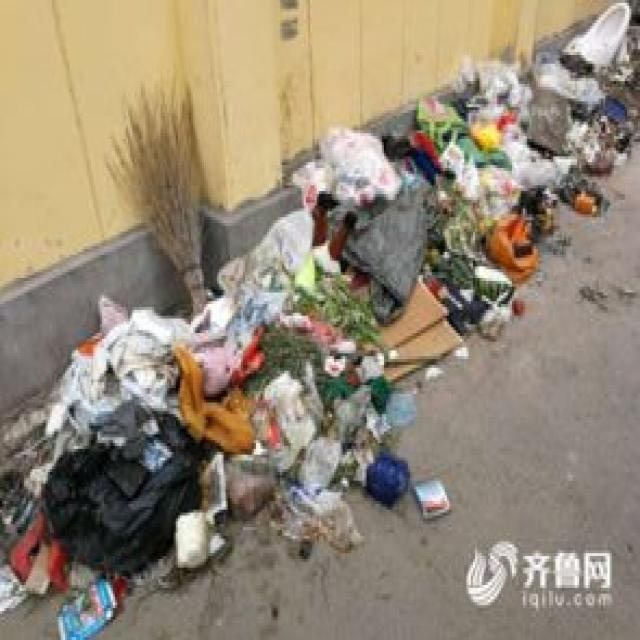garbage: (9, 301, 391, 595), (248, 113, 428, 391), (390, 46, 572, 264)
